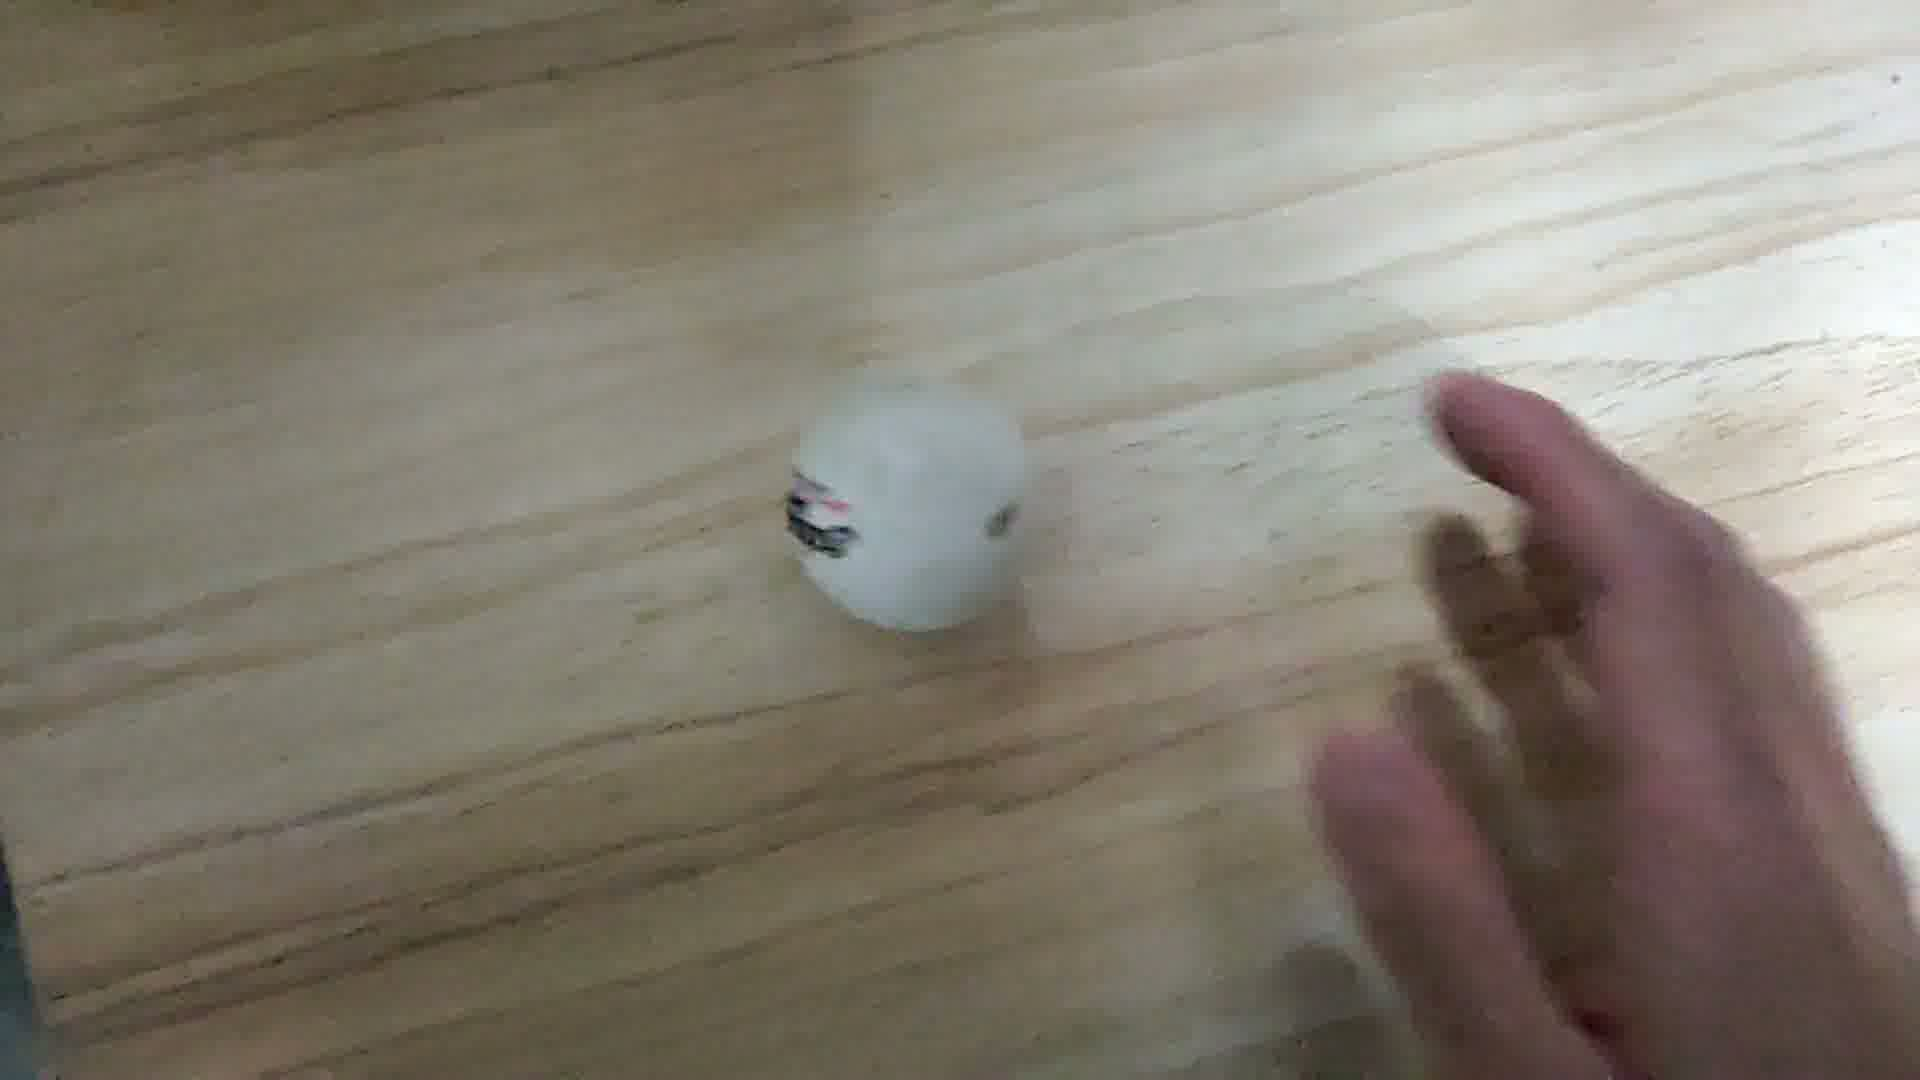Ball: (789, 382, 1040, 636)
